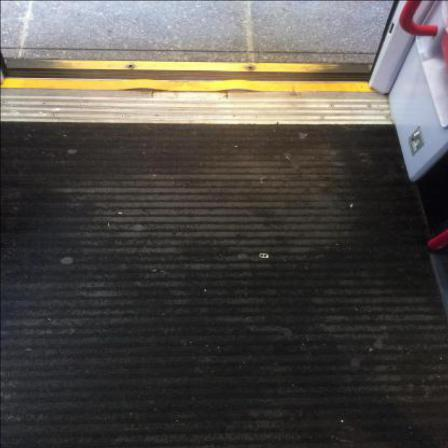Pop tab: (260, 254, 269, 259)
